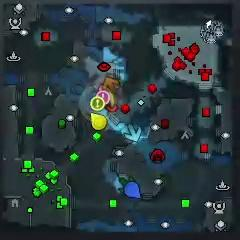Other: (96, 90, 110, 105), (90, 97, 104, 111)
p1: (125, 182, 141, 200)
p4: (90, 112, 109, 131)
x2: (109, 92, 114, 107)
x3: (124, 122, 143, 142)
x4: (118, 174, 135, 194)
x5: (104, 77, 119, 93)
